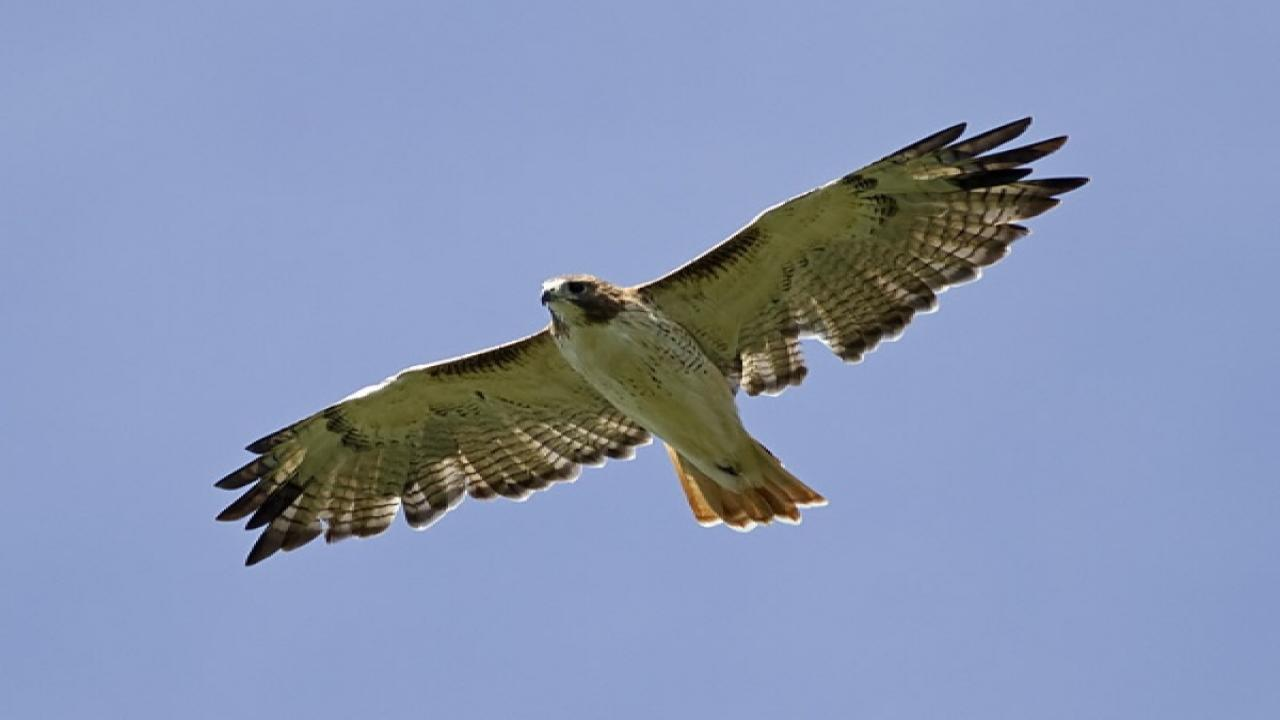Bird: (196, 112, 1099, 569)
